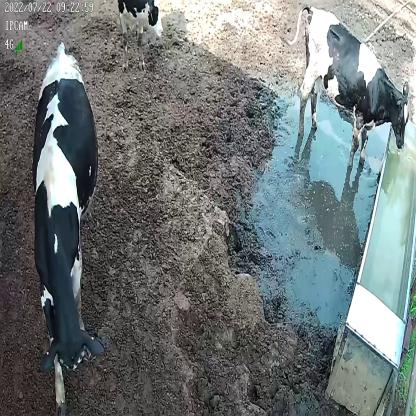cow: (32, 39, 103, 411), (281, 3, 410, 167)
